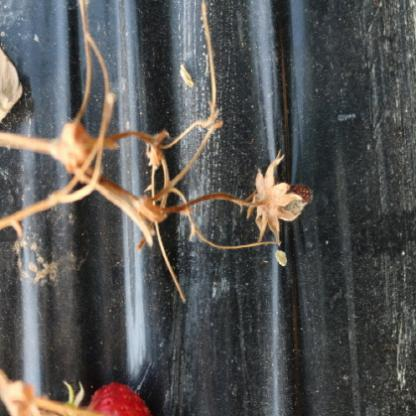Strawberry_Gray_Mold: (246, 150, 314, 247)
